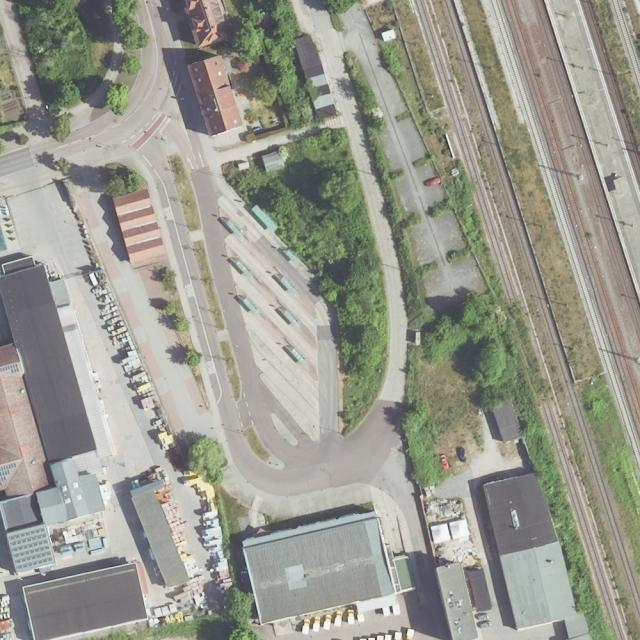PV: (9, 526, 55, 571), (0, 364, 19, 374)
